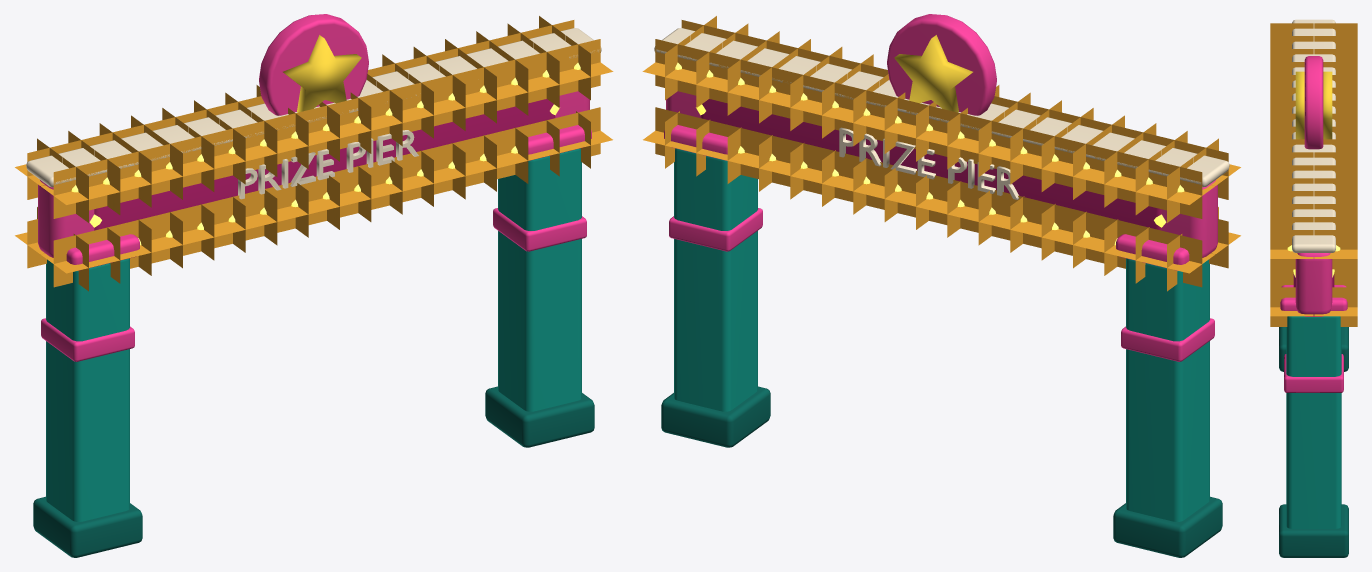
Rendered from gate_entrance.glb.
3 views of the same model, side by side, from view 1: azimuth 30°, elevation 25°; view 2: azimuth 150°, elevation 25°; view 3: azimuth 270°, elevation 25° (orthographic). The views are drawn at different scales.
Parts seen in each view (by area): view 1: Gate; view 2: Gate; view 3: Gate.
Boxes of the visible parts, box(x1,y1,x2,y2) form: Gate: box(15, 14, 613, 557); Gate: box(642, 14, 1240, 557); Gate: box(1270, 19, 1357, 557).
Bounding box in the file's own units: 8.8 × 7.07 × 1.43.
